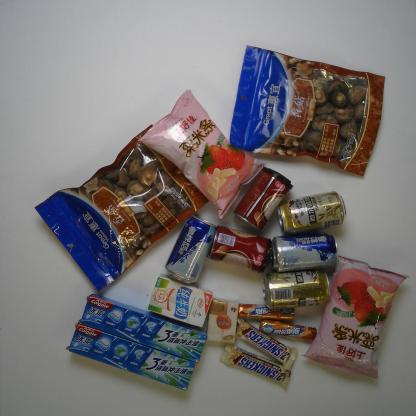Alcohol: (162, 211, 222, 289), (262, 226, 342, 275), (253, 264, 334, 312), (276, 190, 352, 239)
Candy: (236, 297, 296, 327), (257, 315, 319, 342)
Canned Food: (232, 166, 299, 232), (206, 216, 277, 274)
Chocolate: (233, 318, 304, 372), (216, 348, 302, 391)
Dried Food: (27, 109, 216, 295), (220, 38, 395, 183)
Milk: (145, 271, 218, 329)
Personal Hygiene: (53, 321, 201, 393), (72, 290, 214, 364)
Puffed Food: (134, 86, 268, 224), (299, 250, 413, 383)
Tissue: (204, 294, 246, 347)
